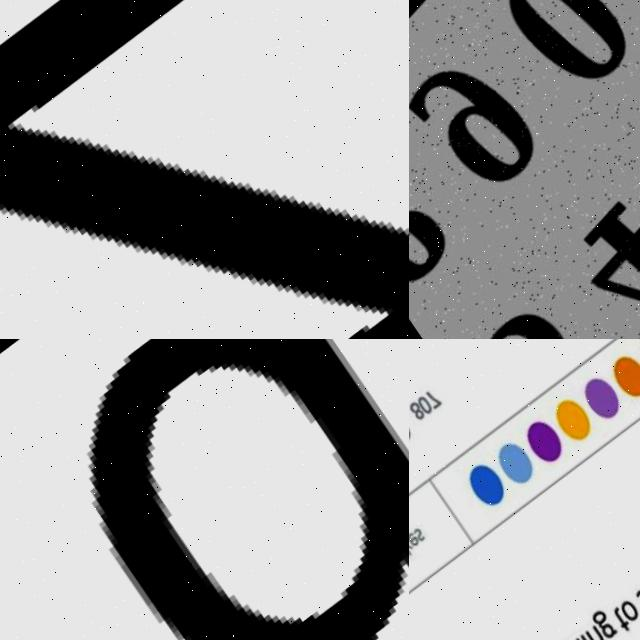0: (460, 0, 640, 161)
3: (450, 260, 640, 339), (423, 391, 441, 414)
4: (540, 159, 640, 339), (409, 401, 426, 427)
8: (409, 111, 486, 321)
9: (409, 4, 579, 250)
D: (8, 339, 409, 640)
E: (409, 534, 418, 550)
G: (589, 613, 619, 640)
K: (409, 537, 415, 561)
N: (584, 631, 605, 640)
O: (615, 603, 640, 634)
S: (411, 528, 425, 547), (632, 594, 640, 622)
T: (609, 612, 632, 640)
Z: (0, 0, 409, 339)
